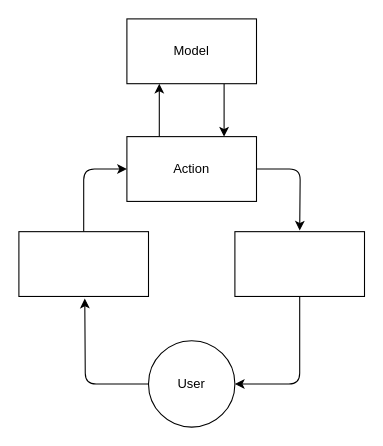
Image size: 383x446. Some labels were removed from this diagram. Here are the shapes that lost their labels. From the top down, the centre of each, then its label:
pixel 83 263: Controller
pixel 299 263: View
